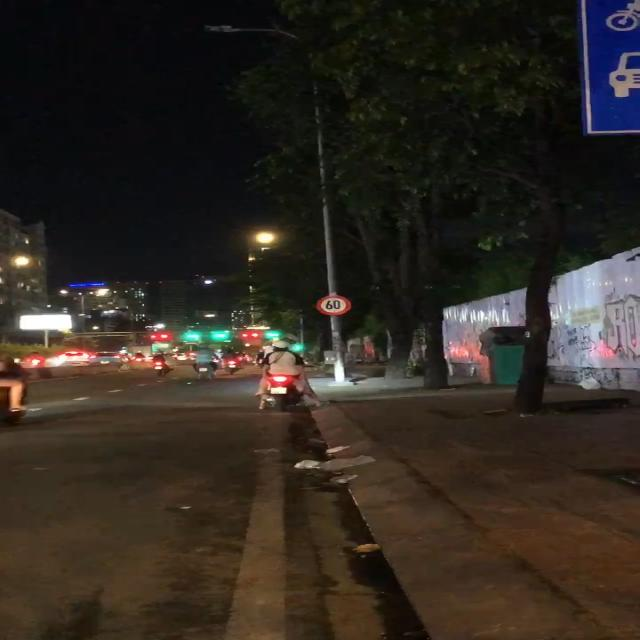Bien bao toc do toi da cho phep: (314, 290, 357, 316)
